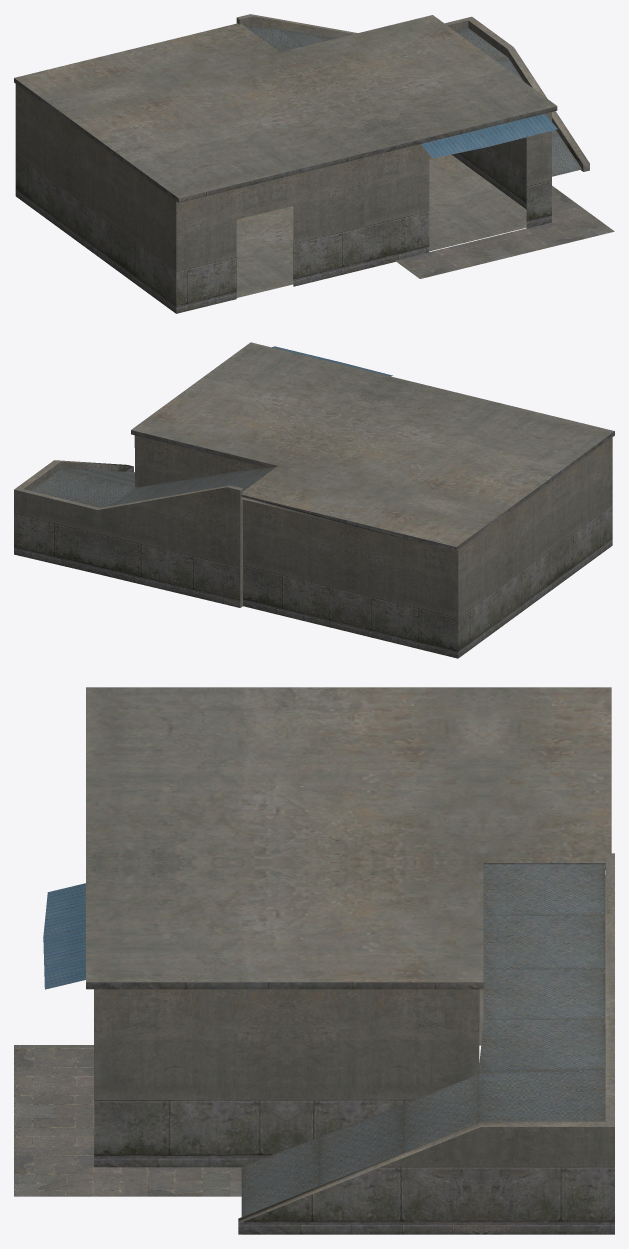
Rendered from Building_HeiygcFz03_2048_lod2.glb.
3 renders of one model, top to bottom at view 1: azimuth 30°, elevation 25°; view 2: azimuth 150°, elevation 25°; view 3: azimuth 270°, elevation 25°, orthographic. The views are drawn at different scales.
Parts seen in each view (by area): view 1: xiutz_heiygc_fz_03_lod2; view 2: xiutz_heiygc_fz_03_lod2; view 3: xiutz_heiygc_fz_03_lod2.
Part boxes in pixels (bbox=[...]): xiutz_heiygc_fz_03_lod2: bbox=[14, 14, 614, 313]; xiutz_heiygc_fz_03_lod2: bbox=[14, 342, 614, 658]; xiutz_heiygc_fz_03_lod2: bbox=[14, 687, 614, 1234].
Size of the model in its own units: 22.07 by 5.7 by 15.69.
Materials: 1 (1 with a texture image).
